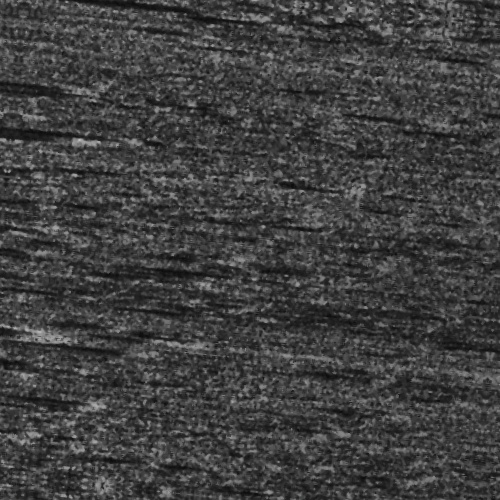object: (77, 140, 150, 157), (7, 345, 80, 358), (39, 150, 102, 163), (186, 9, 269, 18), (0, 242, 52, 249), (33, 103, 74, 108), (0, 133, 30, 138)
shadow: (0, 140, 113, 157), (85, 9, 227, 18), (0, 150, 70, 163), (0, 345, 44, 358), (0, 103, 54, 108)
